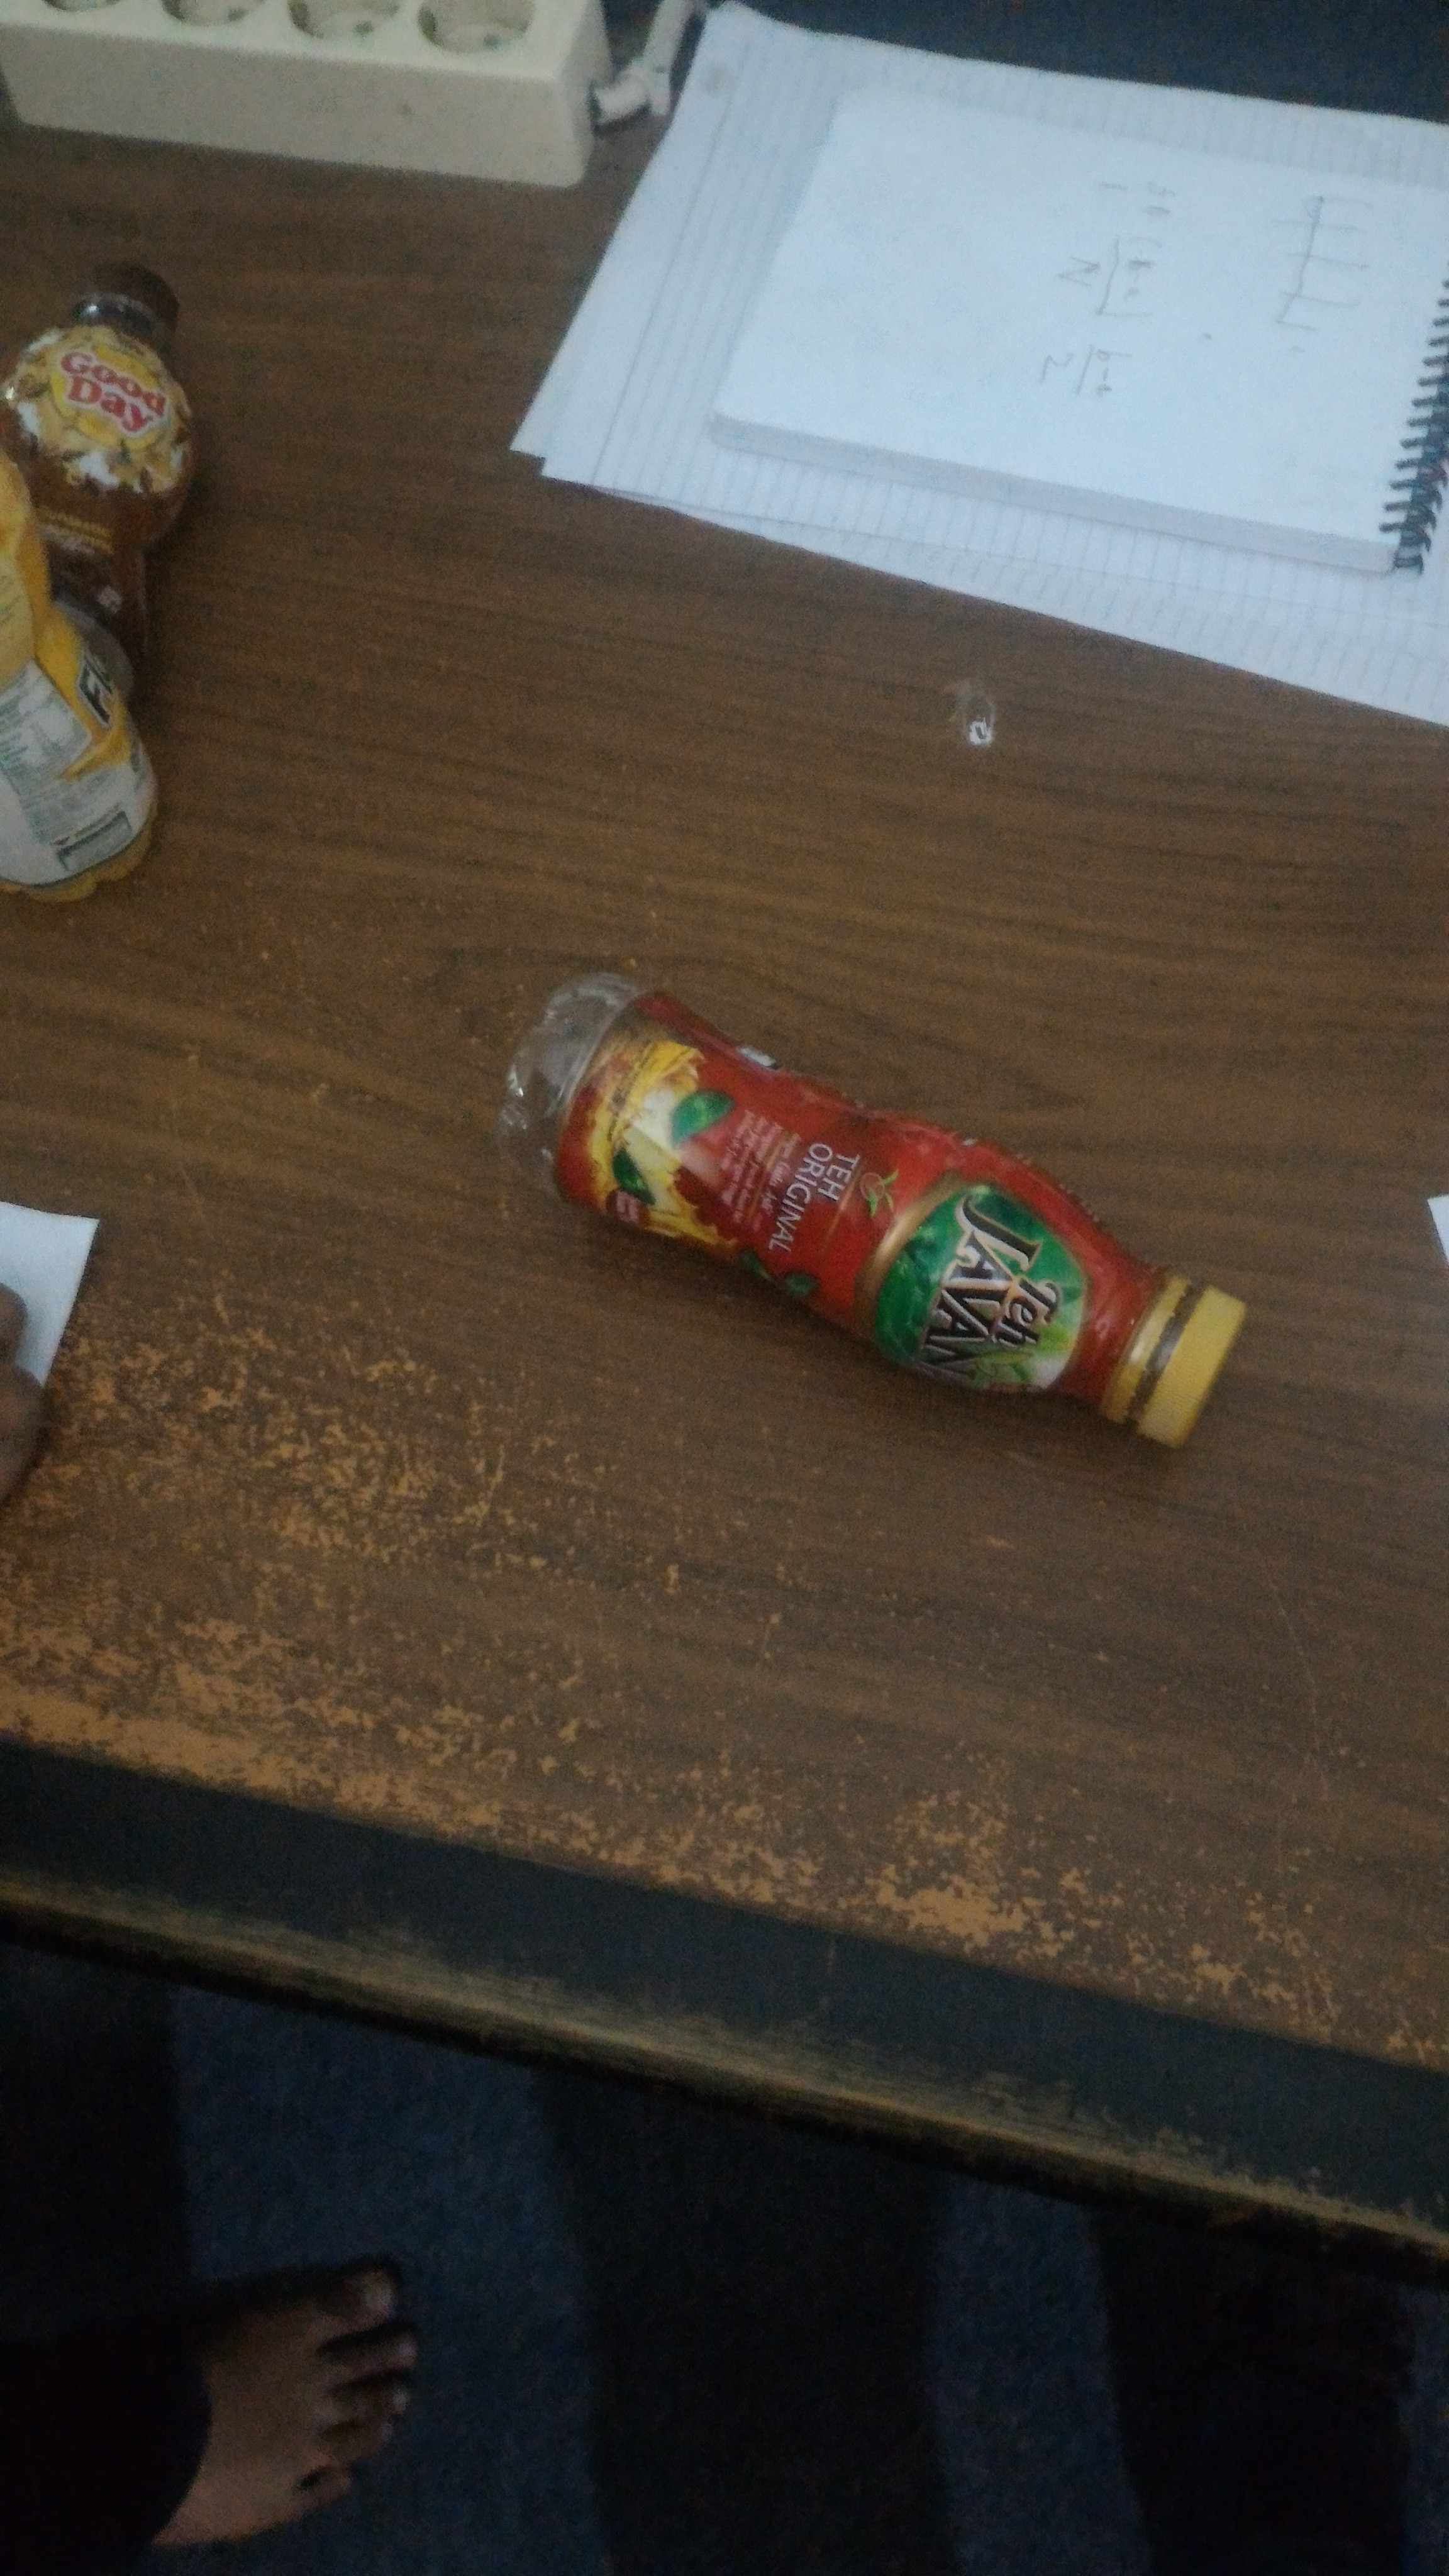botol: (499, 962, 1247, 1444)
